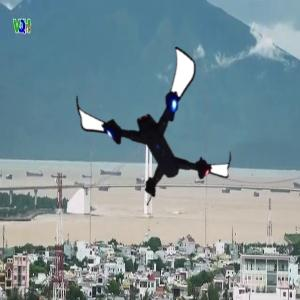drone: (78, 59, 224, 205)
